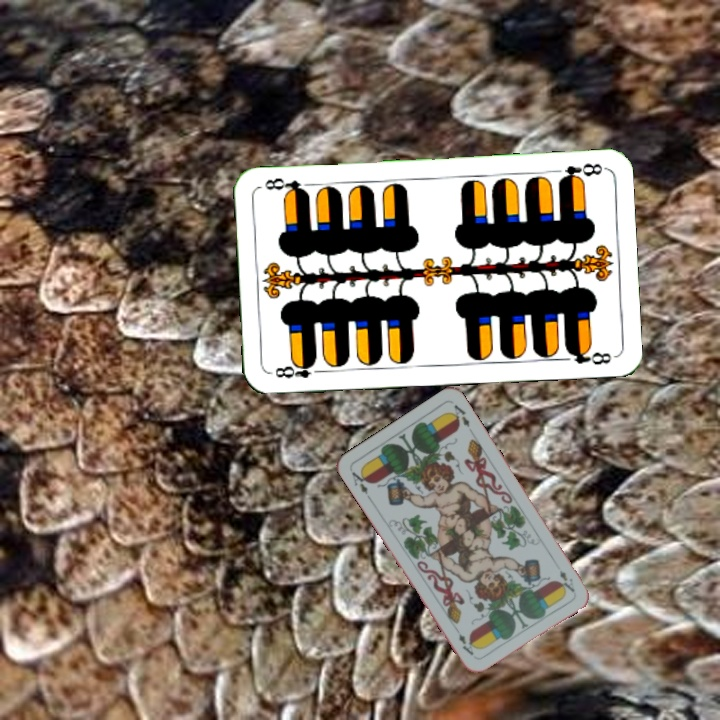E8: (554, 159, 607, 185), (271, 357, 327, 381)
EA: (348, 465, 371, 497), (555, 566, 577, 595)
